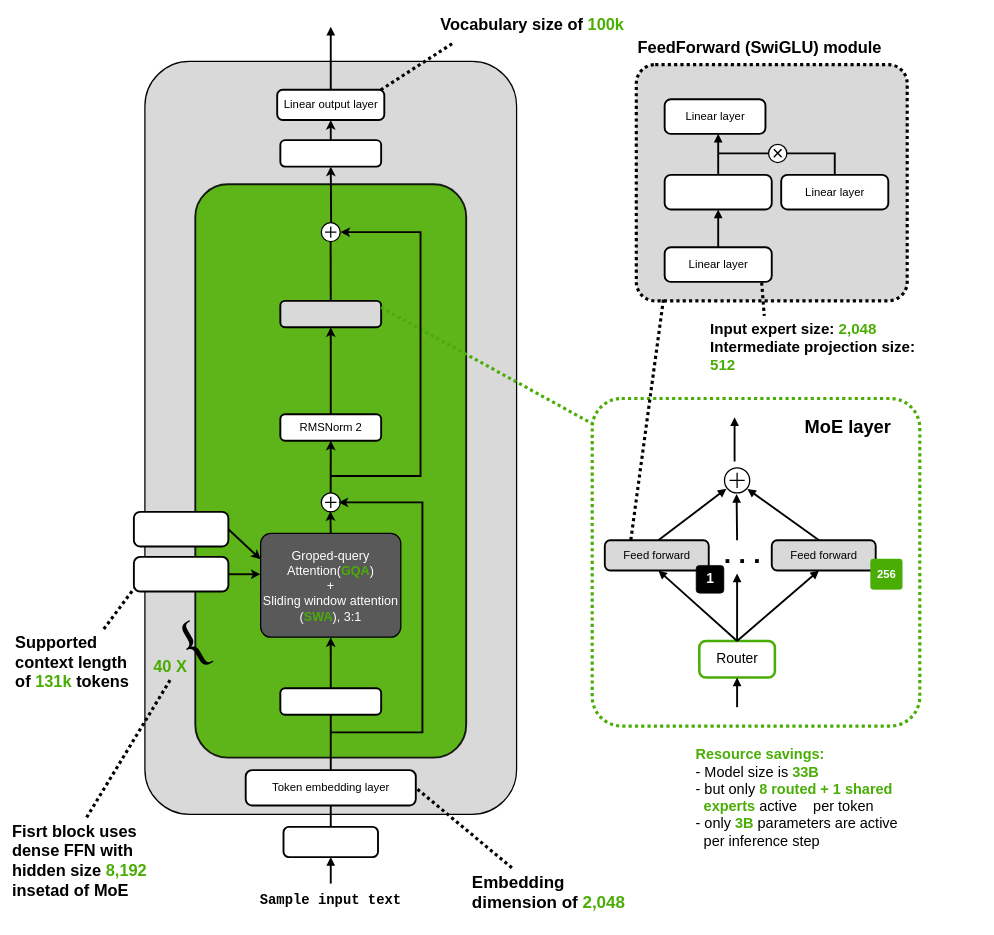
Image size: 994x935. Some labels were removed from this diagram. Each missing label, with the centre of its shape:
"Final RMSNorm" belongs at (x=330, y=153).
"MoE" belongs at (x=330, y=314).
"QK-Norm" belongs at (x=181, y=529).
"RMSNorm 1" belongs at (x=330, y=701).
"RoPE" belongs at (x=181, y=574).
"SiLU activation" belongs at (x=717, y=192).
"Tokenized text" belongs at (x=330, y=842).
